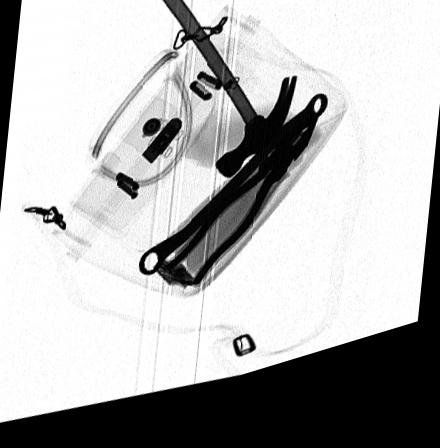Hammer: (153, 0, 301, 194)
Pliers: (161, 124, 320, 297)
Wrench: (138, 112, 329, 284)
